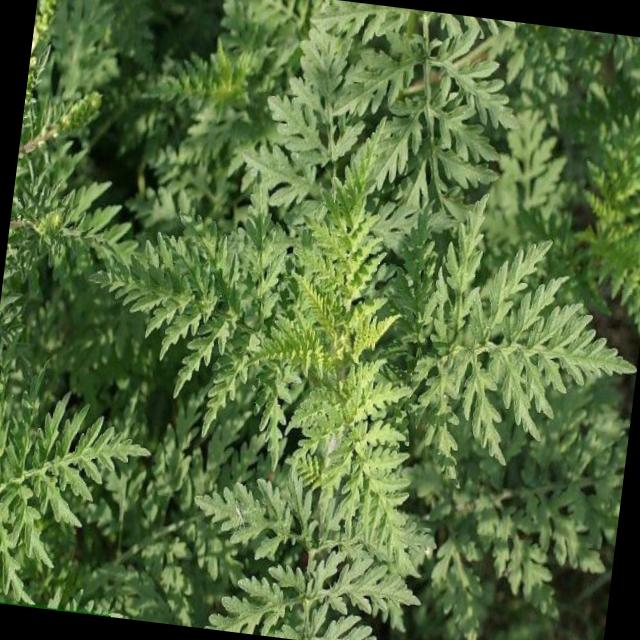ambrosia: (170, 17, 496, 640), (96, 186, 640, 502)
